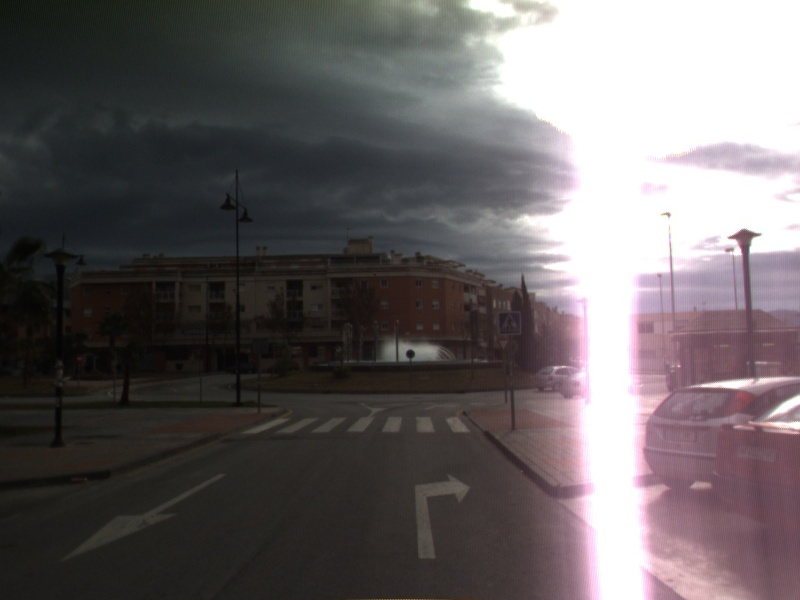RIGHT: (412, 471, 473, 561)
